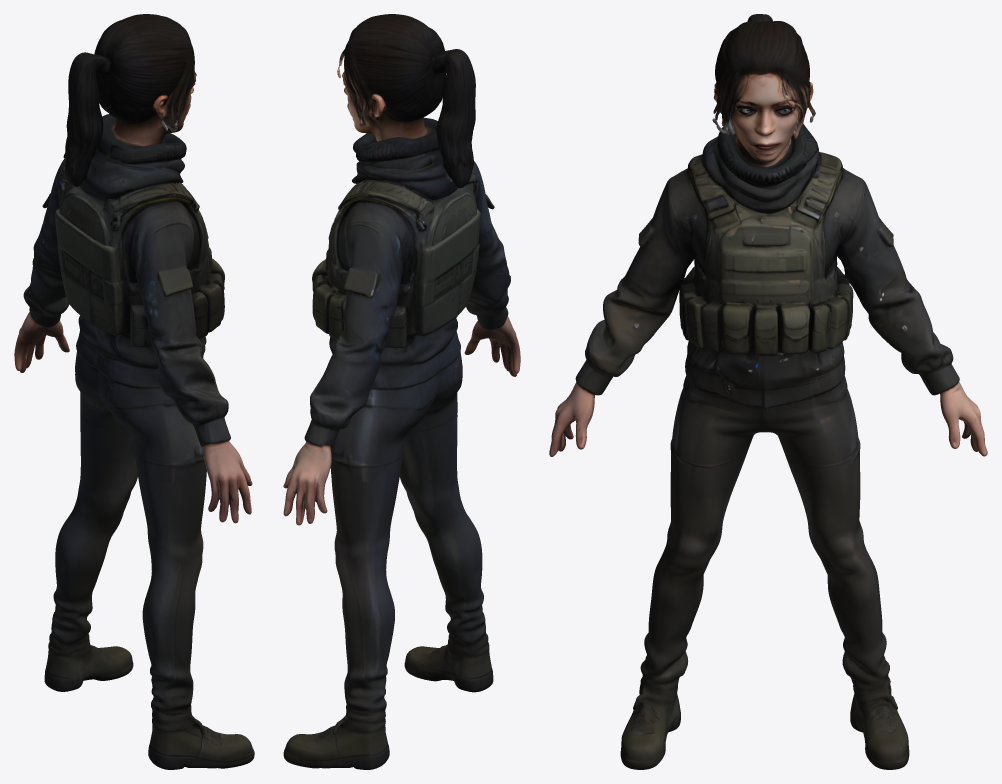
File: nara.glb
3 views of the same model, side by side, from view 1: azimuth 30°, elevation 25°; view 2: azimuth 150°, elevation 25°; view 3: azimuth 270°, elevation 25° (orthographic). The views are drawn at different scales.
Visible parts, largest first — view 1: tripo_node_2c71e026-b8dd-4069-8e3b-24b708e768ae; view 2: tripo_node_2c71e026-b8dd-4069-8e3b-24b708e768ae; view 3: tripo_node_2c71e026-b8dd-4069-8e3b-24b708e768ae.
Part boxes in pixels (<box>): tripo_node_2c71e026-b8dd-4069-8e3b-24b708e768ae: <box>14,14,254,769</box>; tripo_node_2c71e026-b8dd-4069-8e3b-24b708e768ae: <box>283,14,520,769</box>; tripo_node_2c71e026-b8dd-4069-8e3b-24b708e768ae: <box>549,14,987,769</box>.
Size of the model in its own units: 0.2125 by 1 by 0.549.
Materials: 1 (1 with a texture image).
